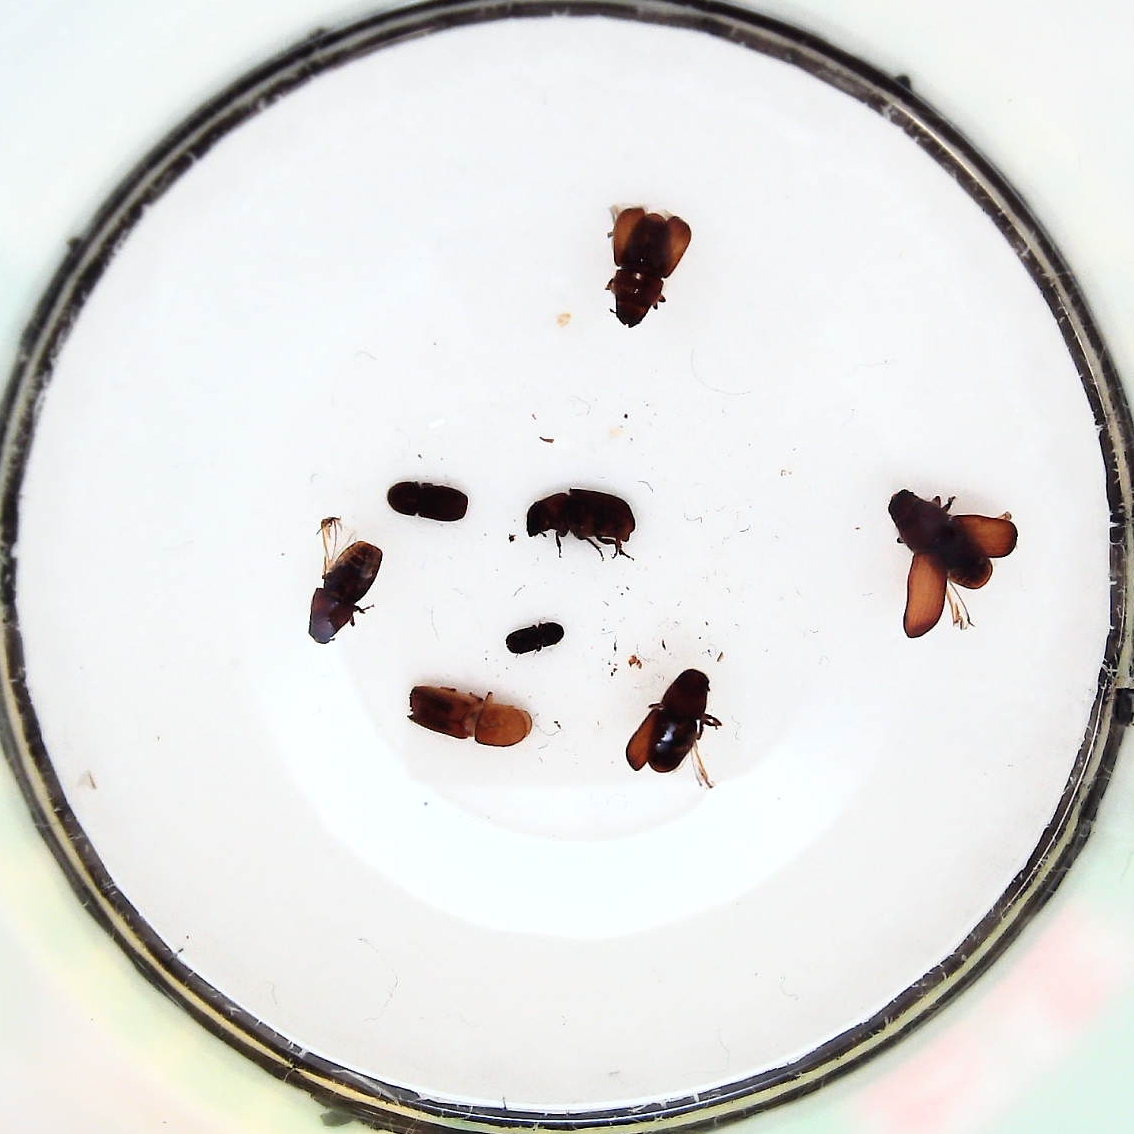Boerner: (405, 680, 540, 751)
Leconte: (886, 482, 1022, 641), (607, 203, 692, 326), (623, 667, 720, 774), (304, 538, 387, 648), (520, 484, 634, 557)
Linnaeus: (386, 474, 469, 526)
coleoptera: (502, 621, 568, 659)
